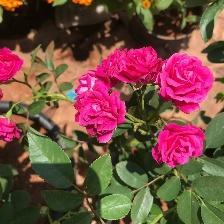rose: (160, 50, 217, 116), (77, 87, 127, 142), (96, 47, 161, 84), (158, 126, 208, 170)
